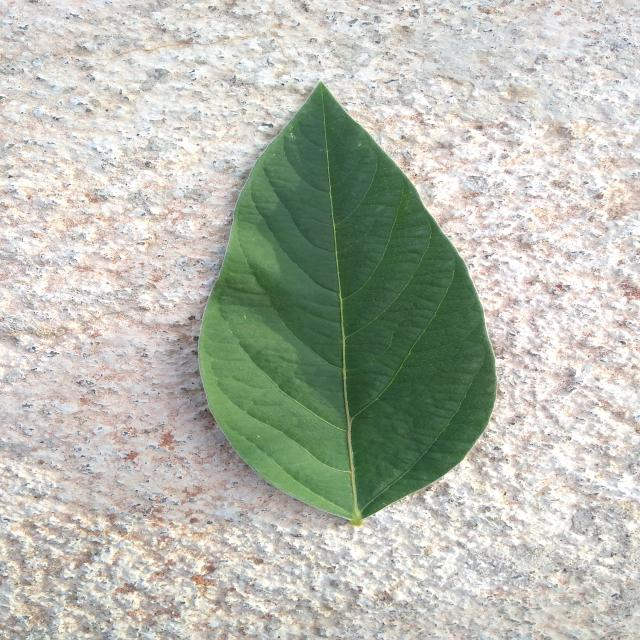pea: (200, 84, 496, 525)
